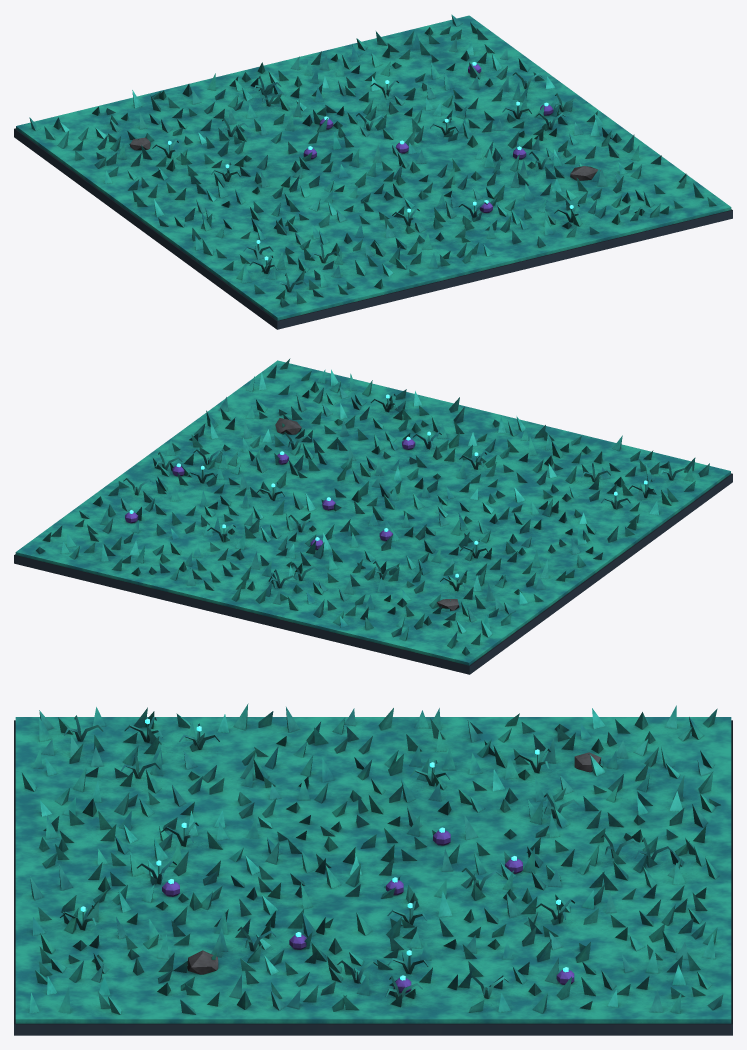
The model's file is cesped_alien.fbx.
The picture shows the model from 3 angles, top to bottom: view 1: azimuth 30°, elevation 25°; view 2: azimuth 150°, elevation 25°; view 3: azimuth 270°, elevation 25°; orthographic projection. The views are drawn at different scales.
Visible parts, largest first — view 1: cesped_alien; view 2: cesped_alien; view 3: cesped_alien.
Part boxes in pixels (box(x1,y1,x2,y2)): cesped_alien: box(14, 14, 732, 329); cesped_alien: box(14, 358, 732, 674); cesped_alien: box(14, 703, 732, 1035).
Bounding box in the file's own units: 8 × 0.4754 × 8.
2 materials, 2 textured.
